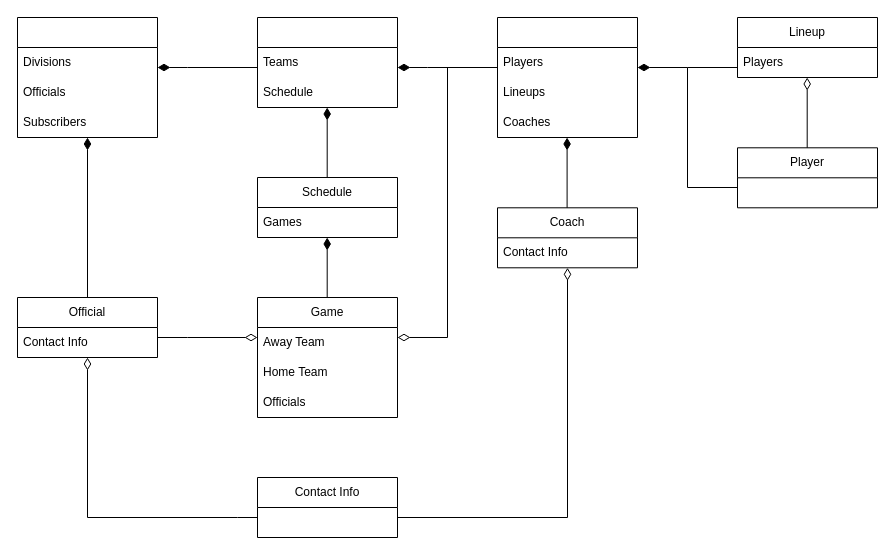
Some shapes in this 895 by 555 pixel diagram are drawn without their labels. The shapes that lost their labels are listed below. From the top down, each one's box as (x1, y1, x2, y2) in pixels, then its label:
(16, 16, 158, 138): Season
(256, 16, 398, 108): Division
(496, 16, 638, 138): Team
